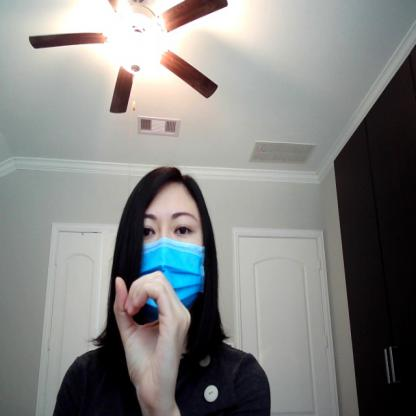zero: (112, 271, 194, 393)
